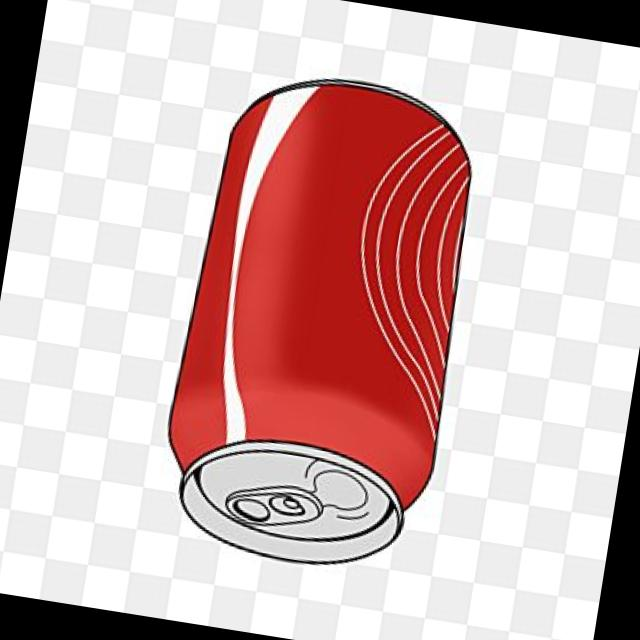soda_can: (158, 54, 493, 580)
